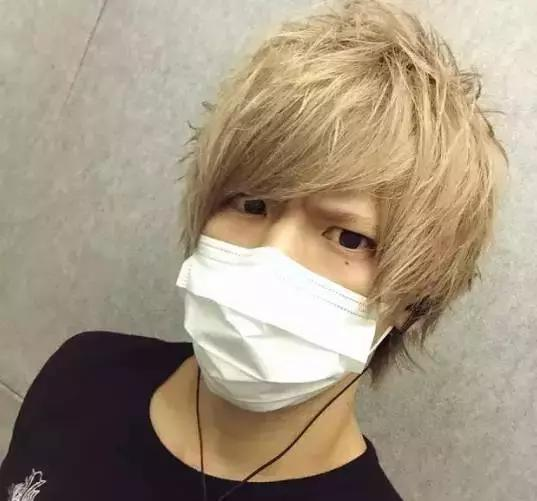face_mask: (187, 119, 400, 388)
